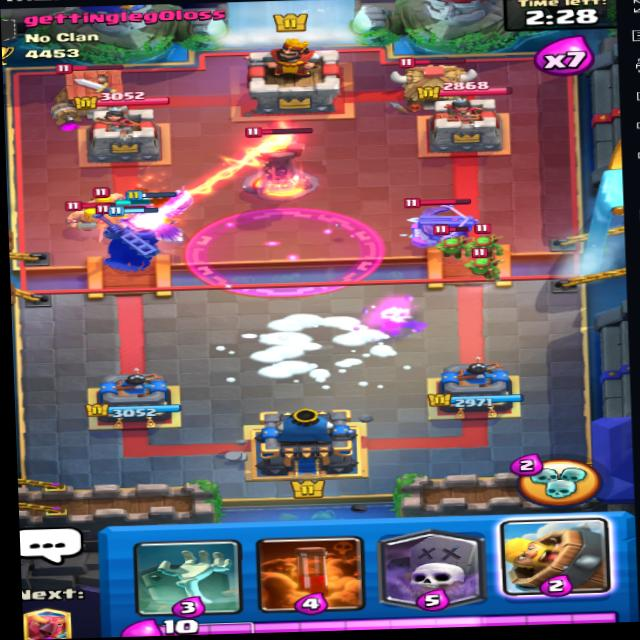barbarian: (60, 198, 111, 230), (75, 181, 132, 208)
barbarian-hut: (49, 58, 133, 126)
goblin-hut: (392, 50, 481, 111)
inferno-tower: (234, 123, 325, 199)
spear-goblin: (462, 249, 506, 275), (472, 233, 504, 260), (438, 235, 470, 259)
x-bow: (391, 187, 488, 247)
